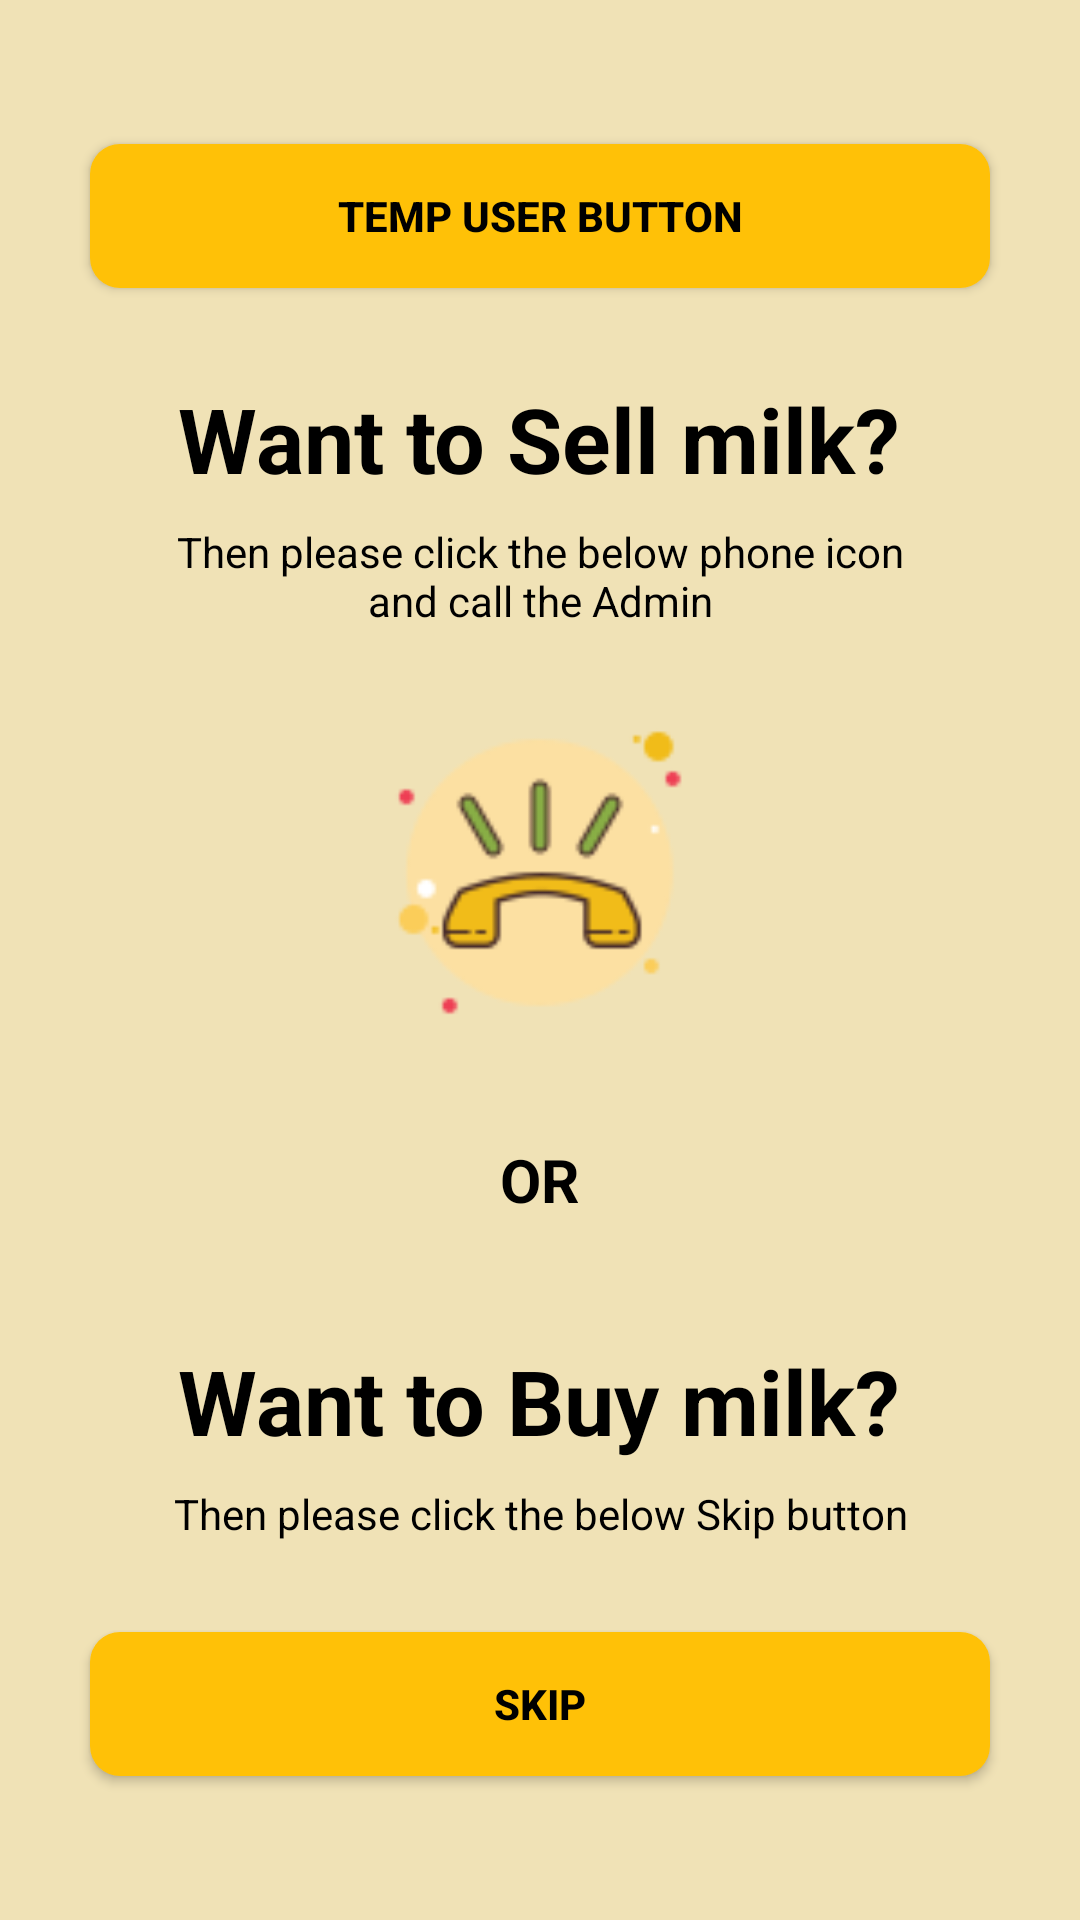

Icons on this 1080w x 1920h Android screen, each with its box as box(x1, y1, x2, y2):
dialer: box(398, 731, 682, 1015)
